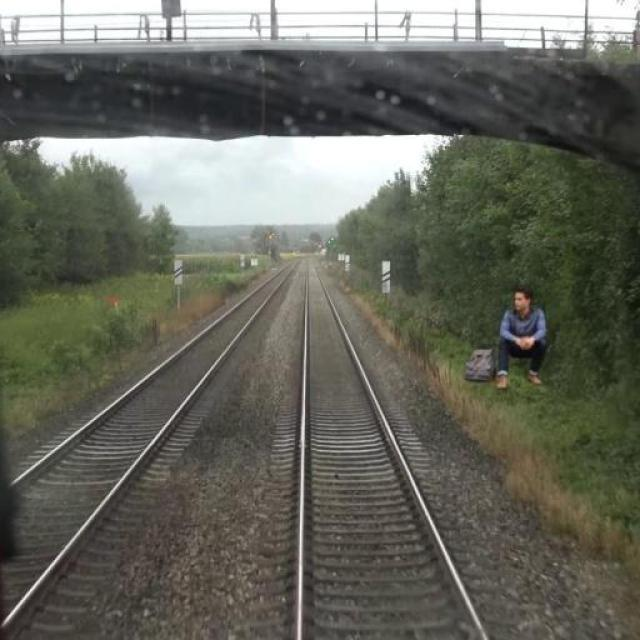people: (497, 281, 564, 399)
